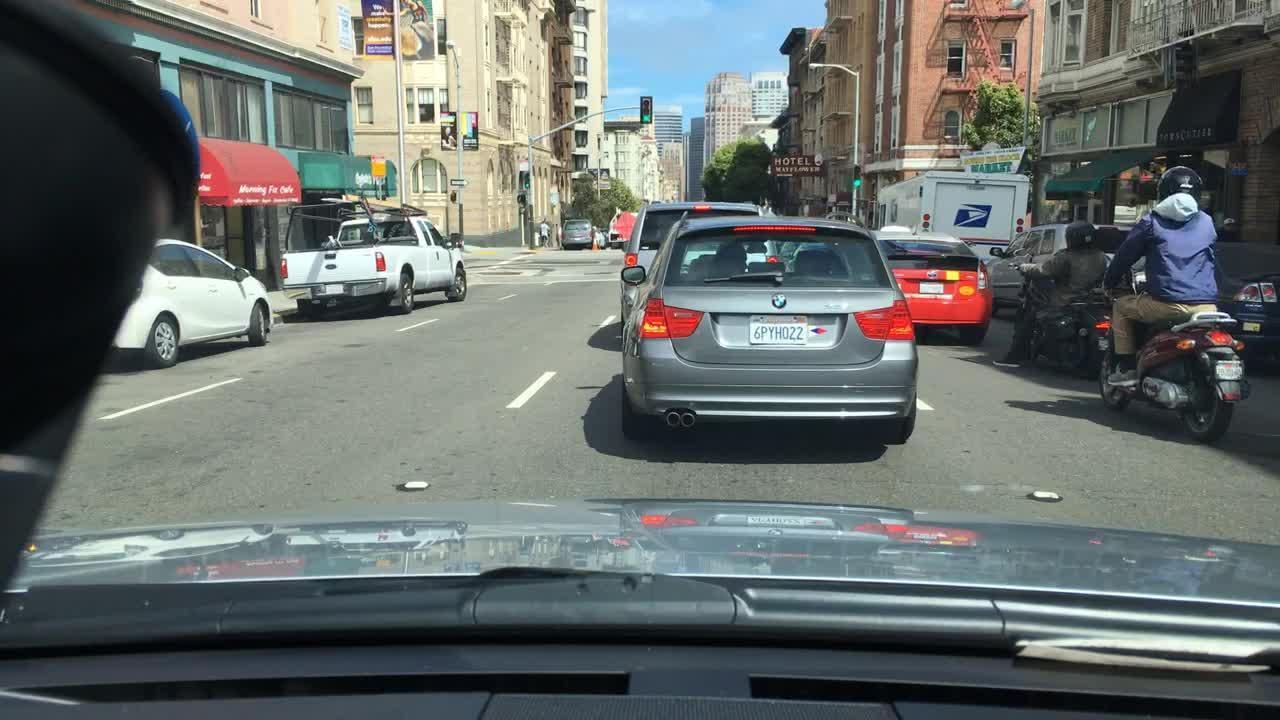bmw: (766, 290, 792, 317)
